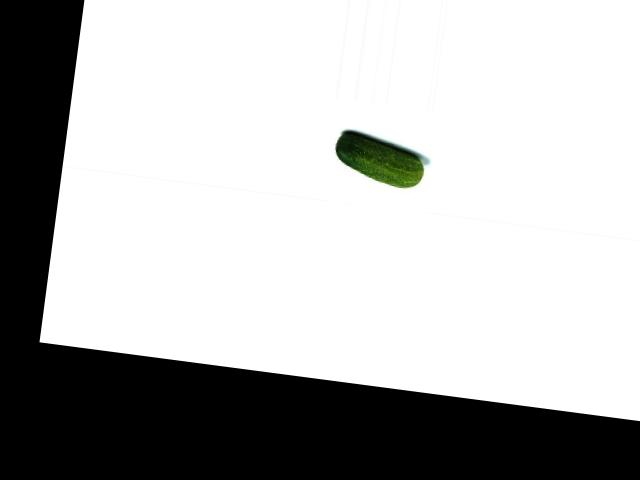cucumber: (331, 130, 427, 189)
